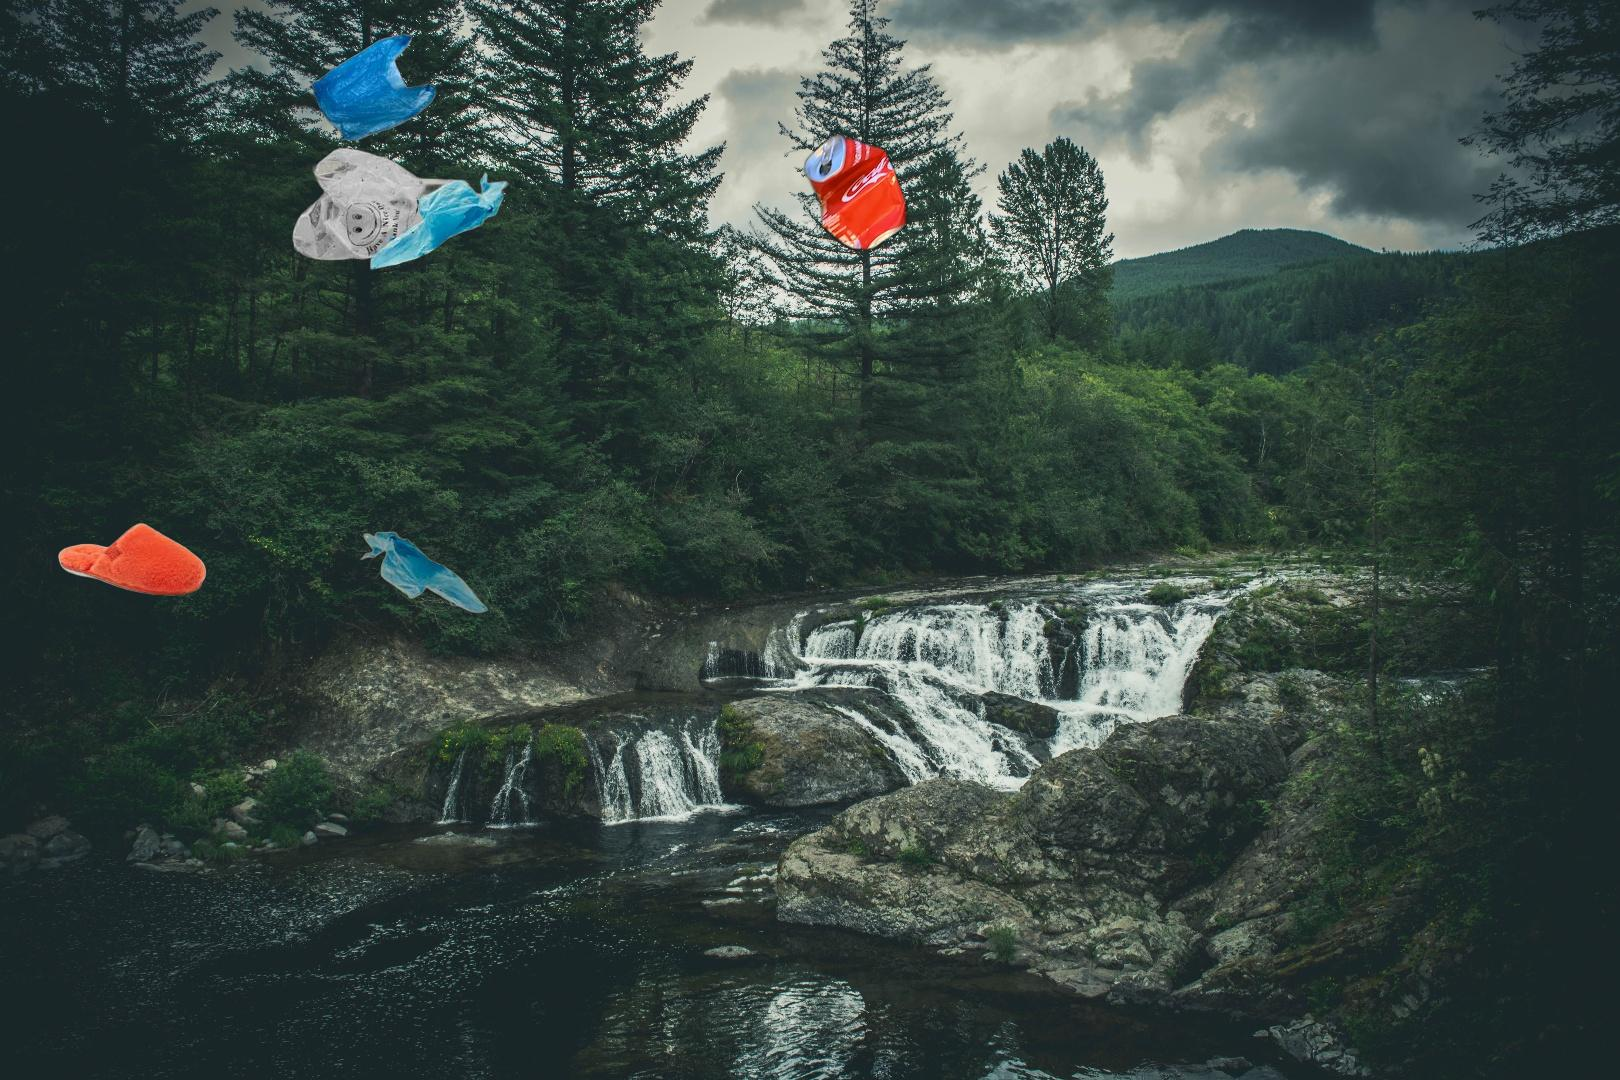metal-cans: (802, 127, 912, 256)
plastic-bag: (289, 30, 513, 274), (356, 530, 542, 759)
shoes: (55, 520, 209, 599)
